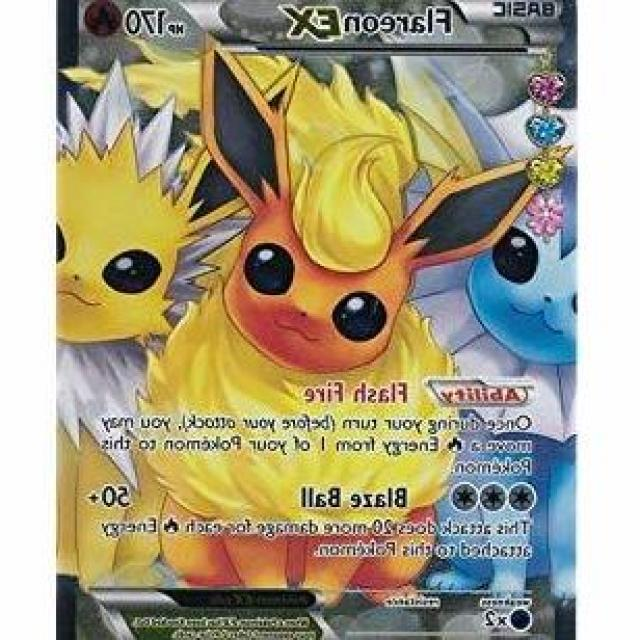Flareon: (145, 133, 459, 584)
